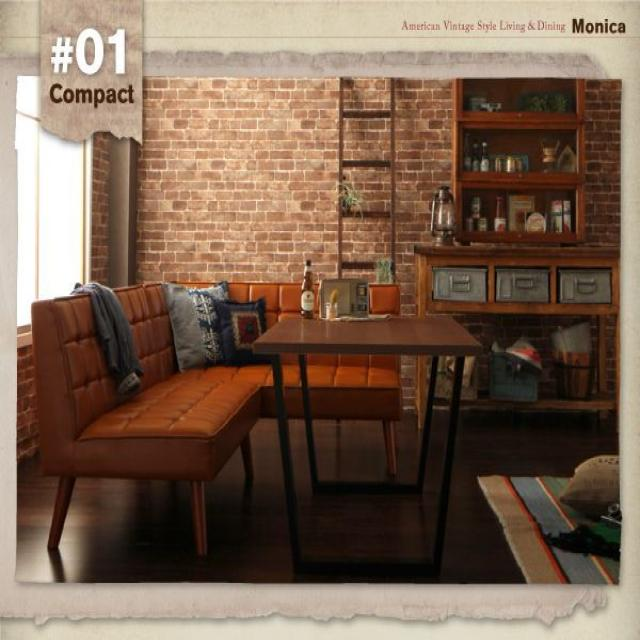vintage desk: (256, 314, 482, 590)
vintage shelf: (414, 79, 620, 317)
vintage sofa: (29, 271, 261, 558)
